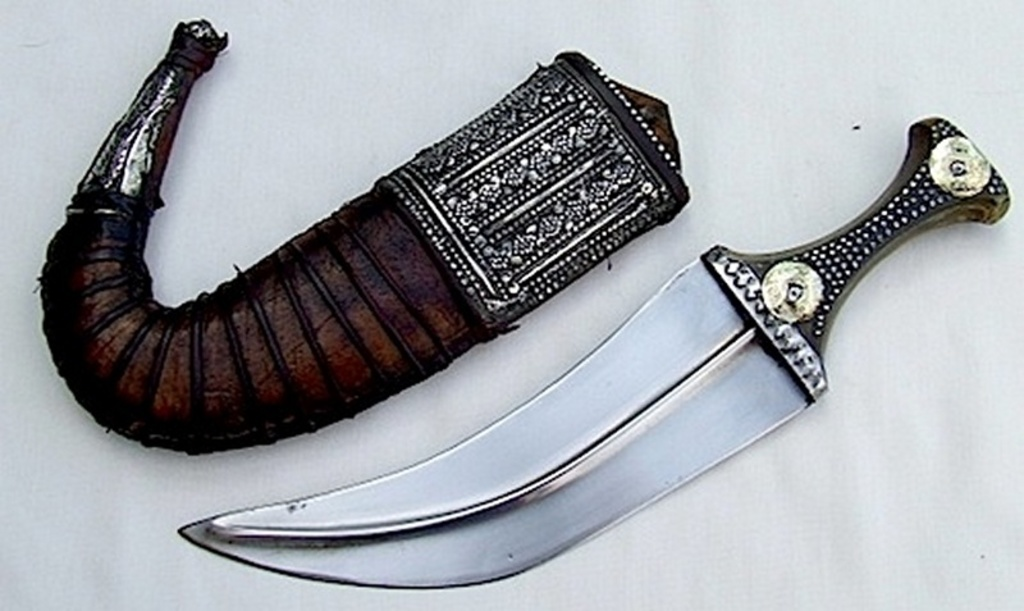knife: (177, 116, 1010, 586)
